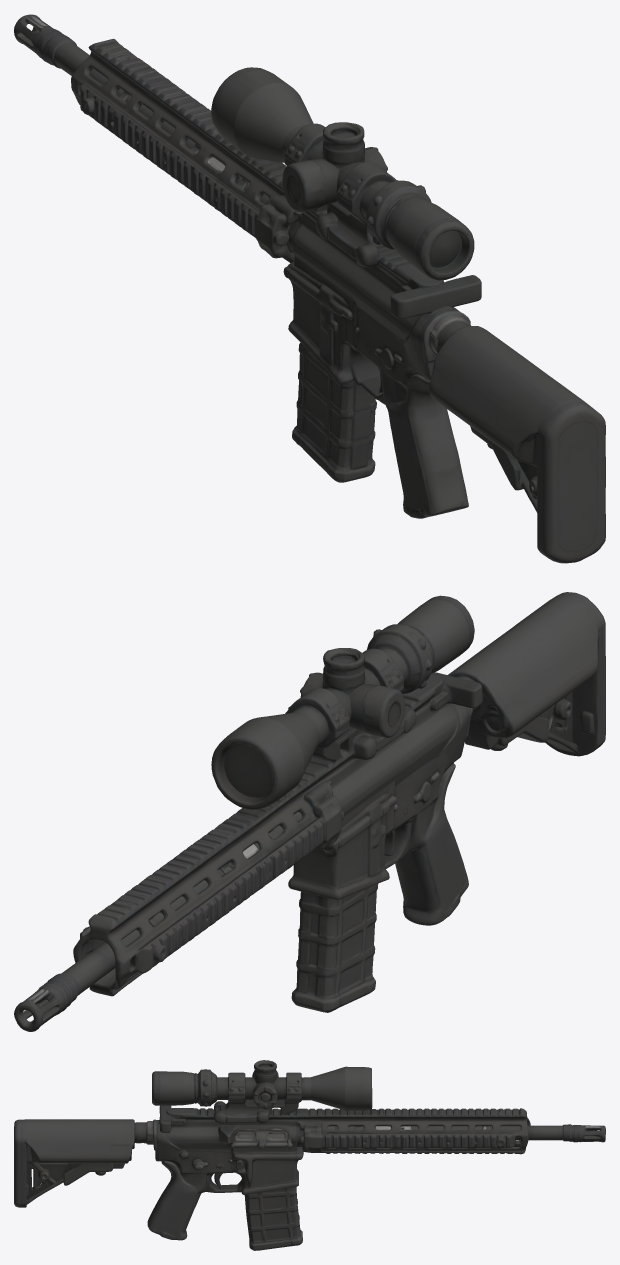
Rendered from w_DMR-QVSWDSCO.glb.
The picture shows the model from 3 angles, top to bottom: view 1: azimuth 30°, elevation 25°; view 2: azimuth 150°, elevation 25°; view 3: azimuth 270°, elevation 25°; orthographic projection. The views are drawn at different scales.
Size of the model in its own units: 0.0986 by 0.3237 by 0.95.
Materials: 1 (1 with a texture image).
